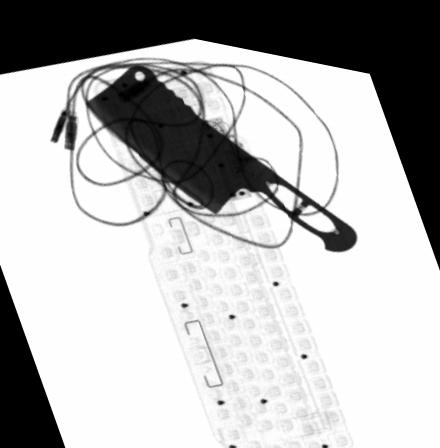Knife: (83, 58, 357, 237)
